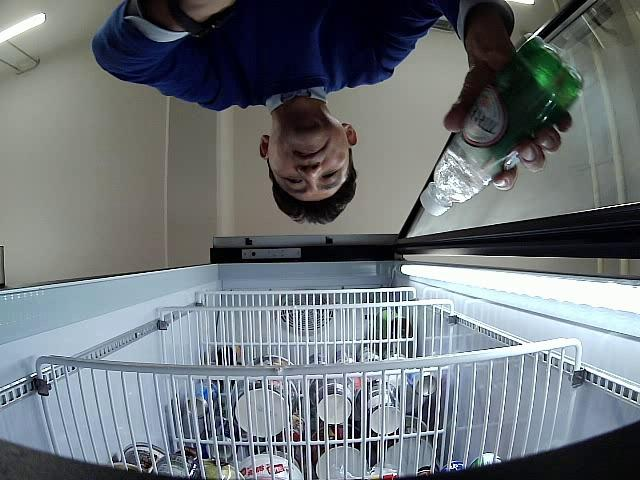00_hand: (444, 43, 572, 190)
18_trevi: (419, 35, 582, 217)
